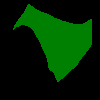mutande: (12, 3, 92, 82)
